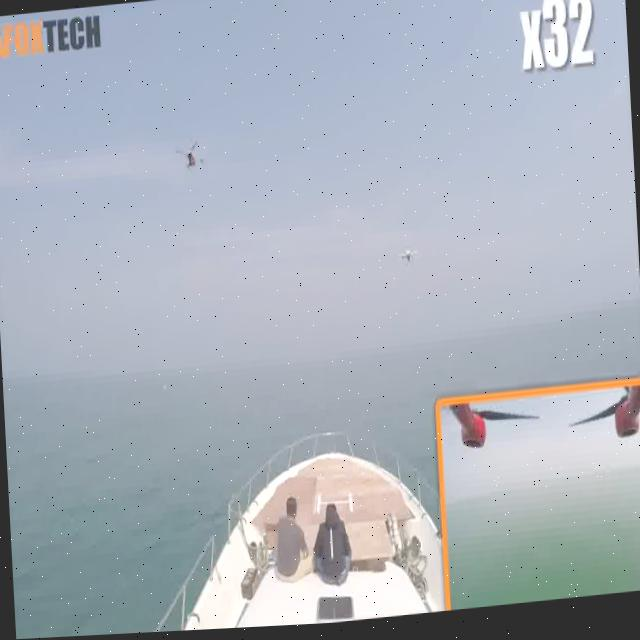drone: (168, 132, 220, 186), (395, 241, 422, 280)
